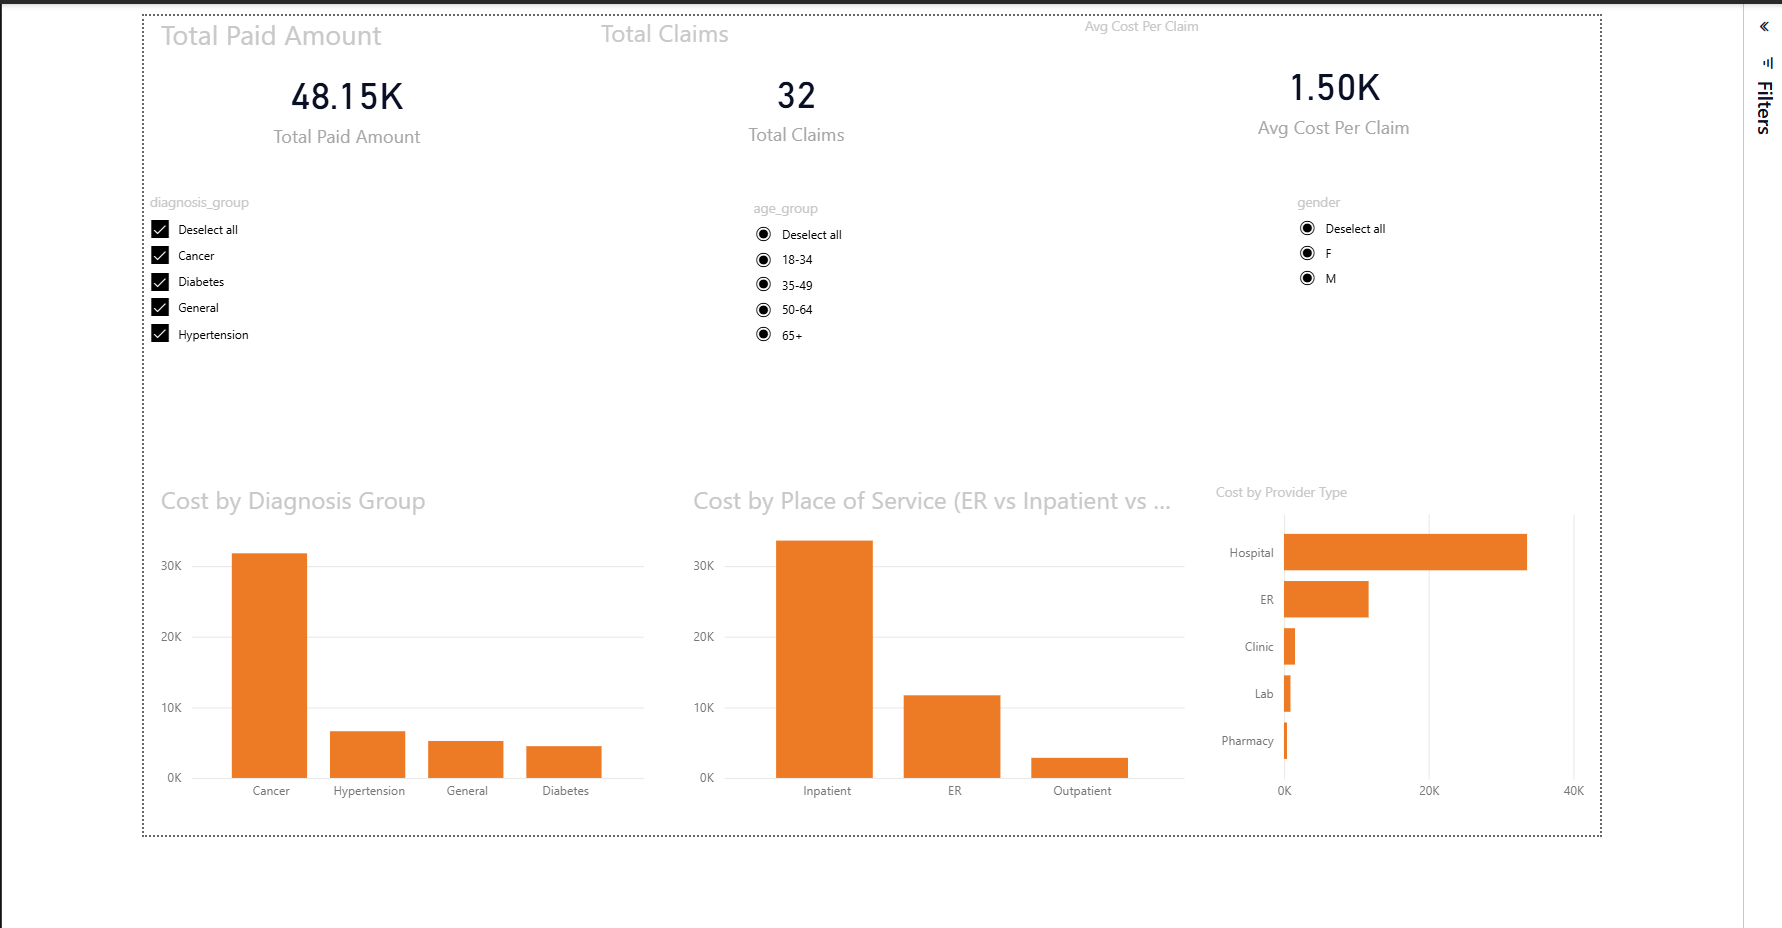

Layout of this report page (visuals, bound fields, positions):
{"tool":"powerbi","page":{"name":"Page 1","canvas":[1280,720],"ordinal":0},"visuals":[{"type":"card","title":"Total Paid Amount","fields":{"Values":["claims.Total Paid Amount"]},"box":[9.6,0,337.6,126.2],"z":0},{"type":"card","title":"Total Claims","fields":{"Values":["claims.Total Claims"]},"box":[396.6,0,354,126.2],"z":1},{"type":"card","title":"Avg Cost Per Claim","fields":{"Values":["claims.Avg Cost Per Claim"]},"box":[822,0,448.7,126.2],"z":2},{"type":"clusteredColumnChart","title":"Cost by Diagnosis Group","fields":{"Category":["claims.diagnosis_group"],"Y":["claims.Total Paid Amount"]},"box":[9.6,410.3,435,288.2],"z":3},{"type":"clusteredColumnChart","title":"Cost by Place of Service (ER vs Inpatient vs Outpatient)","fields":{"Category":["claims.place_of_service"],"Y":["claims.Total Paid Amount"]},"box":[477.5,410.3,441.9,288.2],"z":4},{"type":"clusteredBarChart","title":"Cost by Provider Type","fields":{"Category":["claims.provider_type"],"Y":["claims.Total Paid Amount"]},"box":[937.2,410.3,333.4,288.2],"z":5},{"type":"listSlicer","fields":{"Values":["claims.diagnosis_group"]},"box":[0,155.1,244.3,215.4],"z":6},{"type":"listSlicer","fields":{"Values":["claims.age_group"]},"box":[531,160.5,144.1,204.5],"z":7},{"type":"listSlicer","fields":{"Values":["claims.gender"]},"box":[1008.6,155.1,115.3,204.5],"z":8}]}

Visuals, with their boxes on the page's 1280x720 design canvas (x1, y1, x2, y2). These are canvas units, not pixel positions in the 1782x928 screenshot, which may show the page scaled, cropped or inside an application window:
"Total Paid Amount" card: <bbox>10, 0, 347, 126</bbox>
"Total Claims" card: <bbox>397, 0, 751, 126</bbox>
"Avg Cost Per Claim" card: <bbox>822, 0, 1271, 126</bbox>
"Cost by Diagnosis Group" clusteredColumnChart: <bbox>10, 410, 445, 698</bbox>
"Cost by Place of Service (ER vs Inpatient vs Outpatient)" clusteredColumnChart: <bbox>478, 410, 919, 698</bbox>
"Cost by Provider Type" clusteredBarChart: <bbox>937, 410, 1271, 698</bbox>
listSlicer - claims.diagnosis_group: <bbox>0, 155, 244, 370</bbox>
listSlicer - claims.age_group: <bbox>531, 160, 675, 365</bbox>
listSlicer - claims.gender: <bbox>1009, 155, 1124, 360</bbox>
